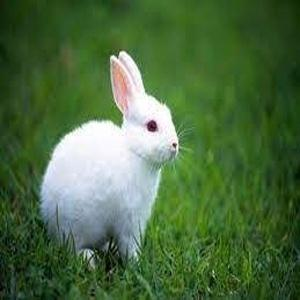rabbit: (41, 51, 178, 262)
